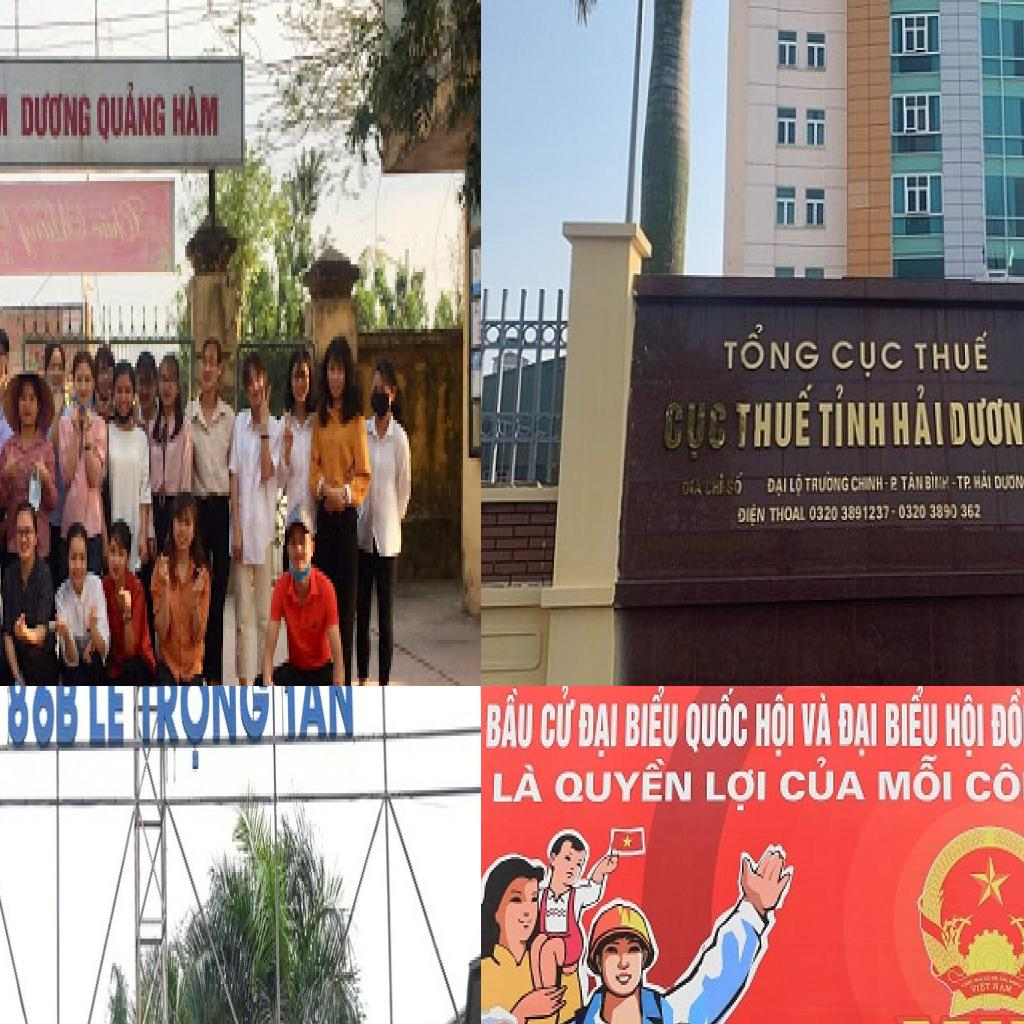text: (134, 686, 272, 775), (555, 761, 697, 806), (733, 381, 817, 454), (723, 321, 821, 375), (95, 78, 169, 147), (279, 686, 356, 750), (875, 750, 955, 810), (7, 686, 80, 751), (817, 383, 887, 450), (684, 686, 750, 755), (778, 759, 868, 808), (19, 86, 95, 143), (663, 400, 729, 464), (947, 396, 1024, 450), (623, 686, 682, 754), (482, 686, 537, 754), (890, 385, 947, 450), (913, 328, 992, 374), (702, 766, 771, 816), (884, 686, 941, 744), (832, 338, 907, 382), (945, 686, 987, 763), (171, 82, 223, 143), (756, 691, 800, 763), (840, 695, 881, 763), (985, 686, 1024, 756), (537, 686, 578, 752), (489, 759, 544, 808), (962, 761, 1024, 801), (579, 701, 620, 761), (88, 686, 126, 750), (801, 688, 833, 750), (810, 504, 898, 524), (805, 468, 850, 496), (954, 468, 994, 494), (734, 502, 768, 530), (768, 504, 808, 526), (890, 470, 925, 494), (0, 82, 13, 142), (923, 470, 952, 494), (993, 472, 1024, 494), (765, 474, 790, 500), (724, 470, 746, 498), (705, 472, 727, 498), (789, 472, 805, 500), (875, 474, 886, 494), (852, 474, 860, 494)
